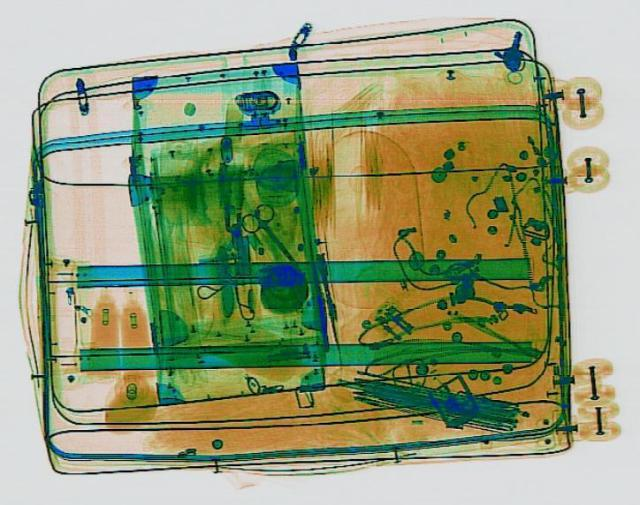Scissors: (228, 198, 312, 273)
